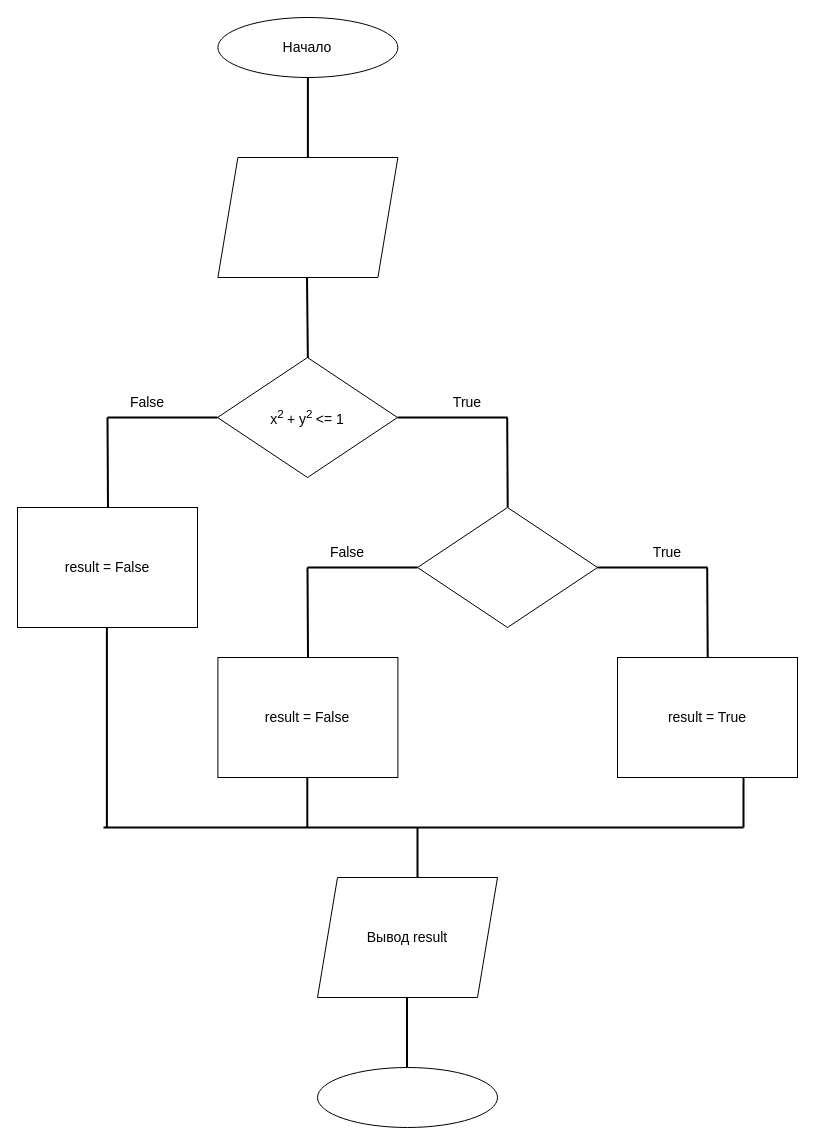
The diagram is 815 pixels wide and 1145 high, and some of its shapes have lost their labels. Here are the shapes that lost their labels. From the top down, the centre of each, then its label:
At point 307,217: "Ввод значений x и y".
At point 507,567: "x + y <= -1".
At point 407,1097: "Конец".
